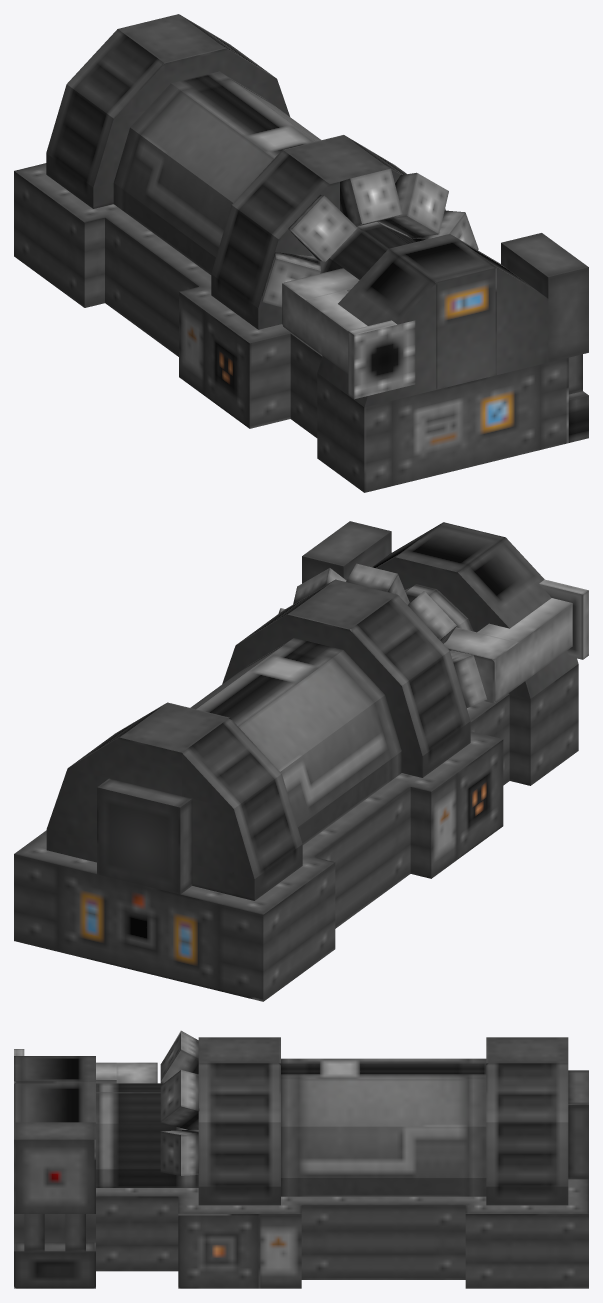
The model's file is gas_turbine_mirrored.obj.
3 renders of one model, top to bottom at view 1: azimuth 30°, elevation 25°; view 2: azimuth 150°, elevation 25°; view 3: azimuth 270°, elevation 25°, orthographic. The views are drawn at different scales.
Parts seen in each view (by area): view 1: turbine_mirrored; view 2: turbine_mirrored; view 3: turbine_mirrored.
Part boxes in pixels (box(x1,y1,x2,y2)): turbine_mirrored: box(14, 14, 588, 492); turbine_mirrored: box(14, 521, 588, 1001); turbine_mirrored: box(14, 1030, 588, 1288).
Bounding box in the file's own units: 3 × 2.62 × 7.
